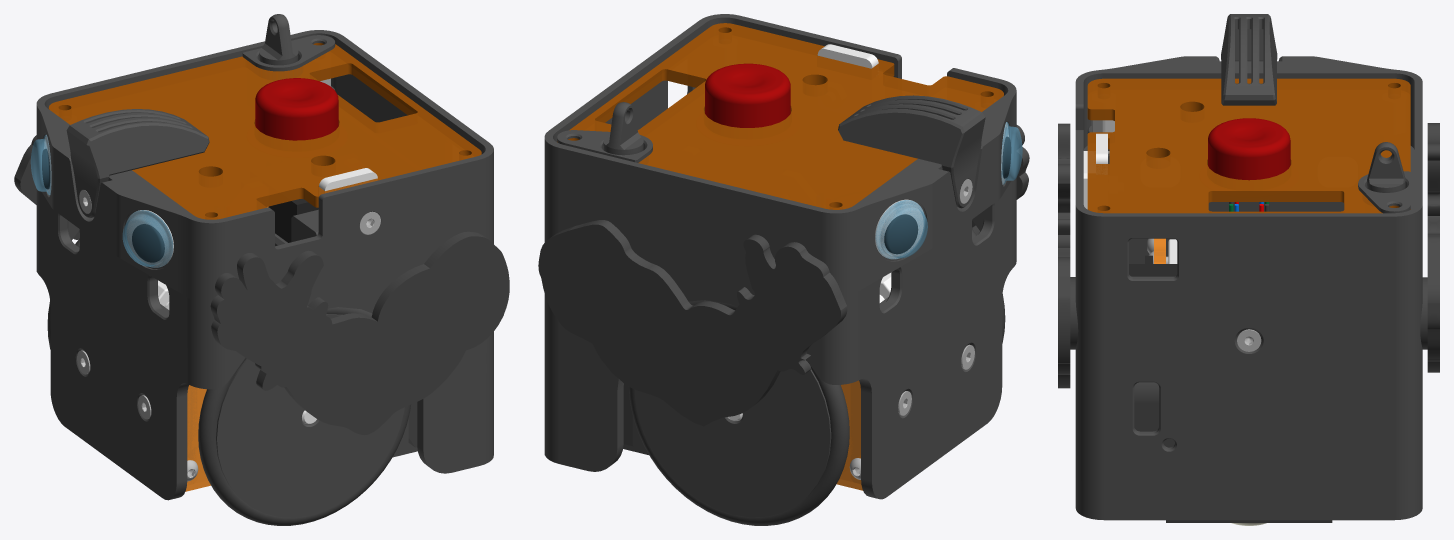
Rendered from PAMI-2025.glb.
3 views of the same model, side by side, from view 1: azimuth 30°, elevation 25°; view 2: azimuth 150°, elevation 25°; view 3: azimuth 270°, elevation 25° (orthographic). The views are drawn at different scales.
Visible parts, largest first — view 1: Carter, Body051, TopTransparentElecCover, Roue60mm3dPrint, CreteBase, BAU, Torique60mm, Transparent (×2), Tirette, PlaqueSupportMoteurGauche, GuideTirette, SupportColor (+5 smaller); view 2: Carter, Bras01, TopTransparentElecCover, Roue60mm3dPrint, CreteBase, BAU, Torique60mm, Transparent (×2), Tirette, PlaqueSupportMoteurDroit, GuideTirette, SupportColor (+3 smaller); view 3: Carter, TopTransparentElecCover, CreteBase, BAU, Body051, Bras01, Tirette, CanonLPE6-Canon, GuideTirette, mg90s-Gauche, Diffuseur, Link008(ServoArm) (+3 smaller).
Boxes of the visible parts, x1=… form: Carter: x1=36, y1=30, x2=493, y2=500; Body051: x1=210, y1=231, x2=509, y2=434; TopTransparentElecCover: x1=48, y1=43, x2=481, y2=219; Roue60mm3dPrint: x1=216, y1=314, x2=404, y2=517; CreteBase: x1=66, y1=109, x2=209, y2=217; BAU: x1=255, y1=78, x2=338, y2=140; Torique60mm: x1=198, y1=307, x2=410, y2=525; Transparent (×2): x1=30, y1=135, x2=173, y2=267; Tirette: x1=259, y1=14, x2=298, y2=65; PlaqueSupportMoteurGauche: x1=185, y1=385, x2=210, y2=491; GuideTirette: x1=242, y1=35, x2=335, y2=71; SupportColor: x1=126, y1=210, x2=173, y2=267; Carter: x1=544, y1=14, x2=1016, y2=499; Bras01: x1=538, y1=220, x2=847, y2=426; TopTransparentElecCover: x1=557, y1=23, x2=1003, y2=209; Roue60mm3dPrint: x1=635, y1=369, x2=831, y2=517; CreteBase: x1=838, y1=95, x2=985, y2=208; BAU: x1=705, y1=63, x2=790, y2=127; Torique60mm: x1=629, y1=300, x2=849, y2=525; Transparent (×2): x1=875, y1=122, x2=1022, y2=259; Tirette: x1=603, y1=102, x2=643, y2=155; PlaqueSupportMoteurDroit: x1=836, y1=380, x2=862, y2=490; GuideTirette: x1=557, y1=130, x2=652, y2=162; SupportColor: x1=875, y1=199, x2=923, y2=259; Carter: x1=1075, y1=56, x2=1422, y2=520; TopTransparentElecCover: x1=1087, y1=78, x2=1410, y2=213; CreteBase: x1=1221, y1=14, x2=1277, y2=105; BAU: x1=1208, y1=118, x2=1290, y2=180; Body051: x1=1058, y1=123, x2=1070, y2=388; Bras01: x1=1427, y1=123, x2=1439, y2=372; Tirette: x1=1367, y1=142, x2=1405, y2=192; CanonLPE6-Canon: x1=1134, y1=382, x2=1174, y2=447; GuideTirette: x1=1358, y1=171, x2=1410, y2=213; mg90s-Gauche: x1=1129, y1=255, x2=1177, y2=276; Diffuseur: x1=1083, y1=133, x2=1107, y2=209; Link008(ServoArm): x1=1070, y1=277, x2=1078, y2=349.
Size of the model in its own units: 0.0965 by 0.1019 by 0.0946.
